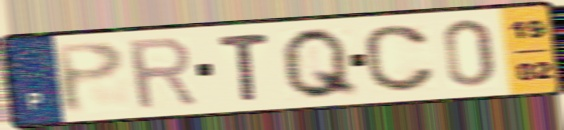0: (440, 16, 500, 92)
C: (360, 22, 440, 94)
P: (50, 39, 129, 116)
Q: (278, 25, 363, 102)
R: (123, 34, 202, 113)
T: (214, 30, 273, 103)
